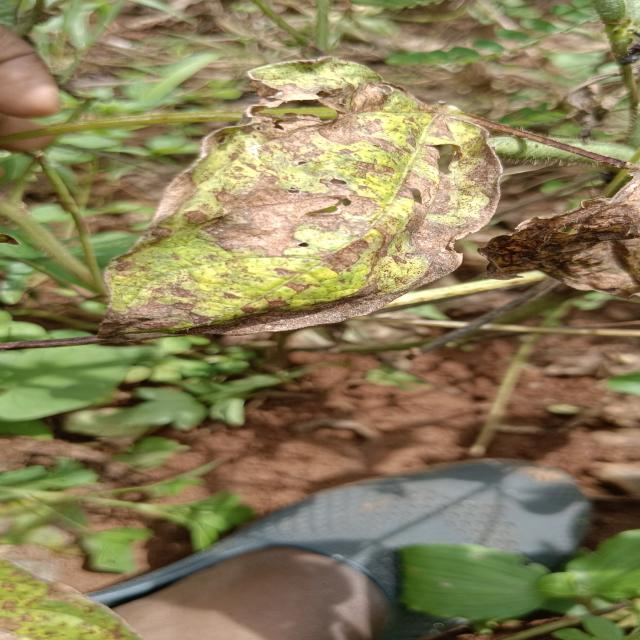Black gram_leaf spot: (78, 49, 520, 343)
